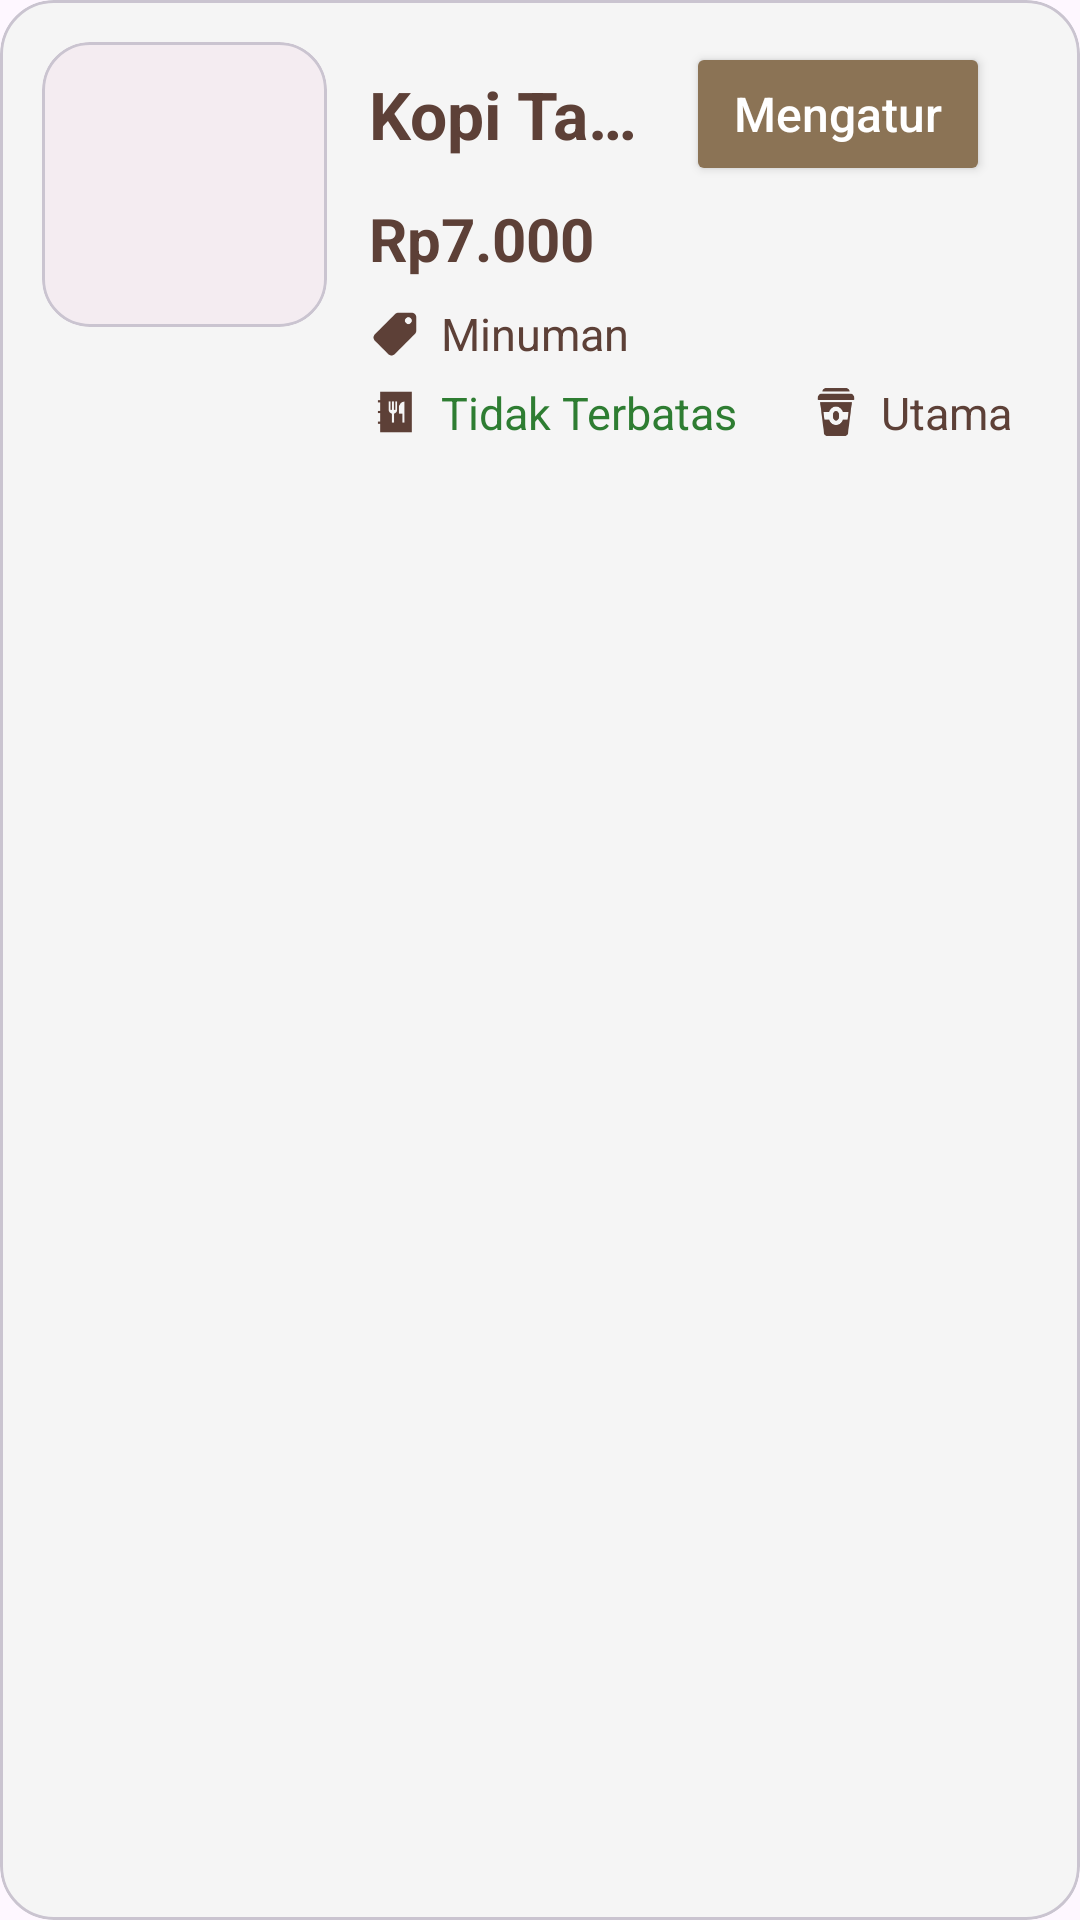

Screen size 1080px×1920px. Icon name, then its box in pixels as (x1, y1, x2, y2):
menu: (378, 391, 412, 433)
tag: (373, 312, 417, 356)
